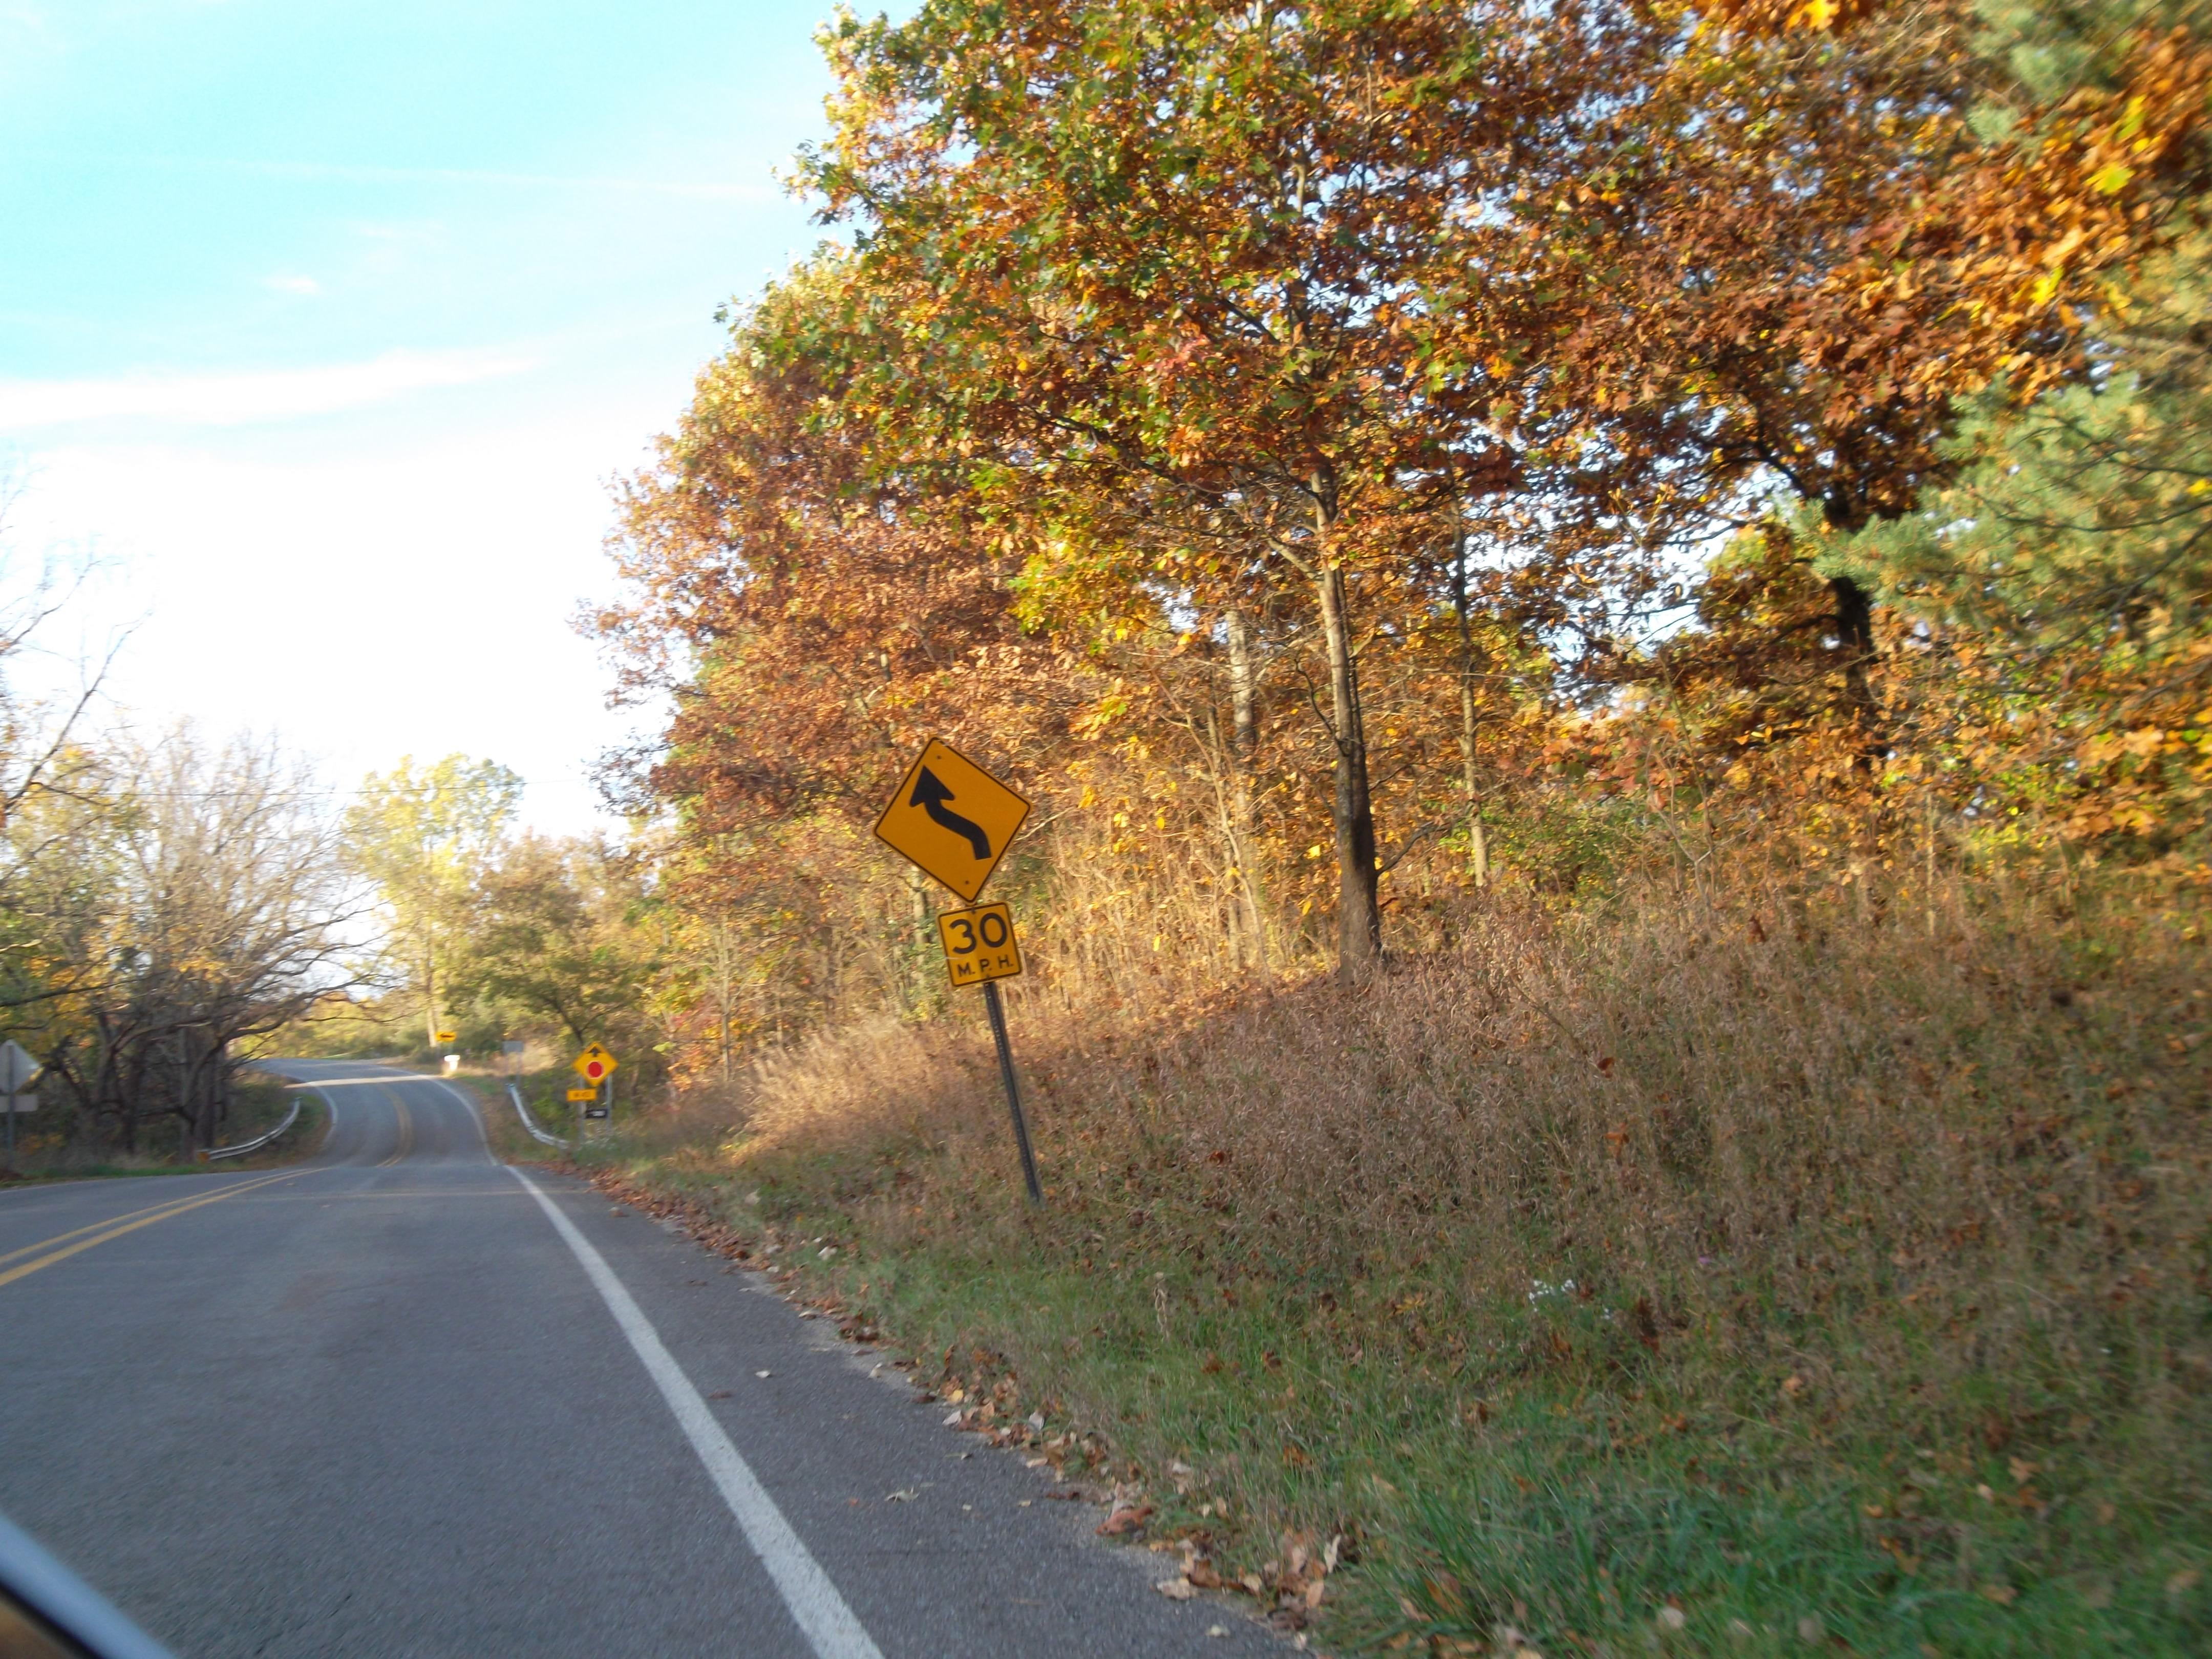stop: (587, 1061, 604, 1080)
warning: (876, 739, 1036, 901), (928, 906, 1035, 986), (573, 1035, 618, 1089), (566, 1086, 601, 1103), (434, 1032, 458, 1044)
